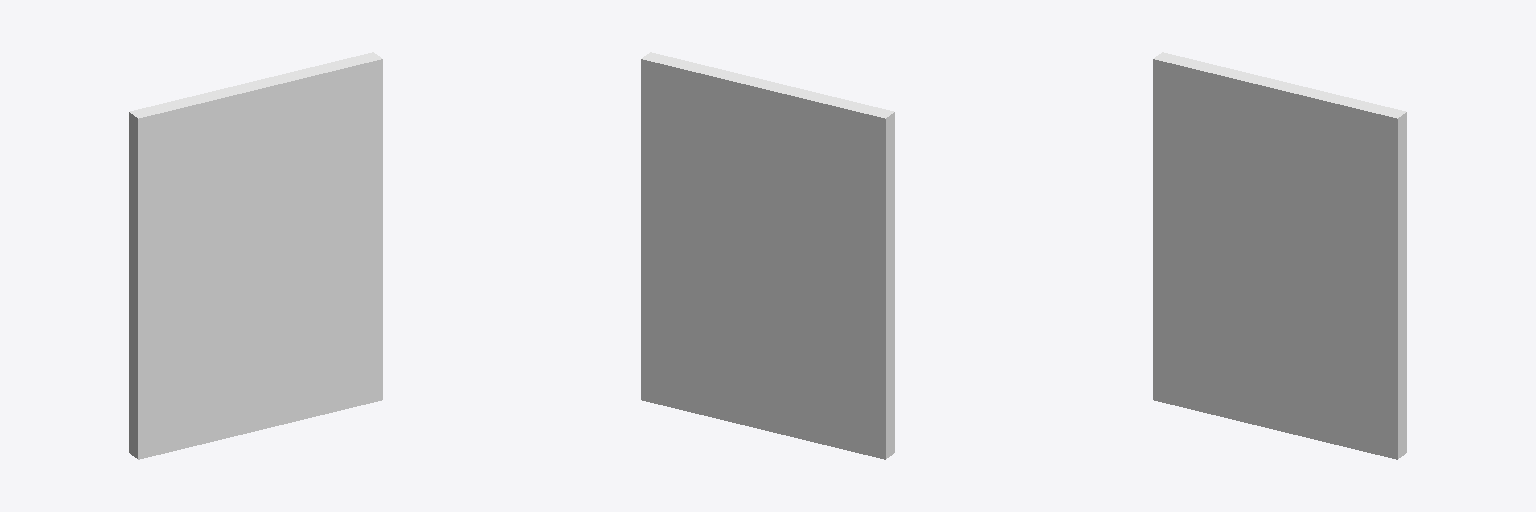
File: SaltyThots-0.obj
The picture shows the model from 3 angles: view 1: azimuth 30°, elevation 25°; view 2: azimuth 150°, elevation 25°; view 3: azimuth 330°, elevation 25°; orthographic projection.
Parts seen in each view (by area): view 1: SaltyThots-0; view 2: SaltyThots-0; view 3: SaltyThots-0.
Boxes of the visible parts, <box> form: SaltyThots-0: <box>129,52,382,459</box>; SaltyThots-0: <box>641,52,894,459</box>; SaltyThots-0: <box>1153,52,1406,459</box>.
Size of the model in its own units: 15 by 20 by 1.